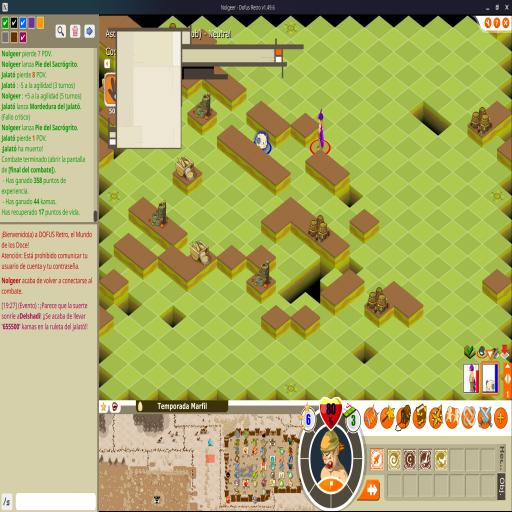Enemigos: (253, 131, 272, 155)
Personaje: (310, 109, 331, 155)
